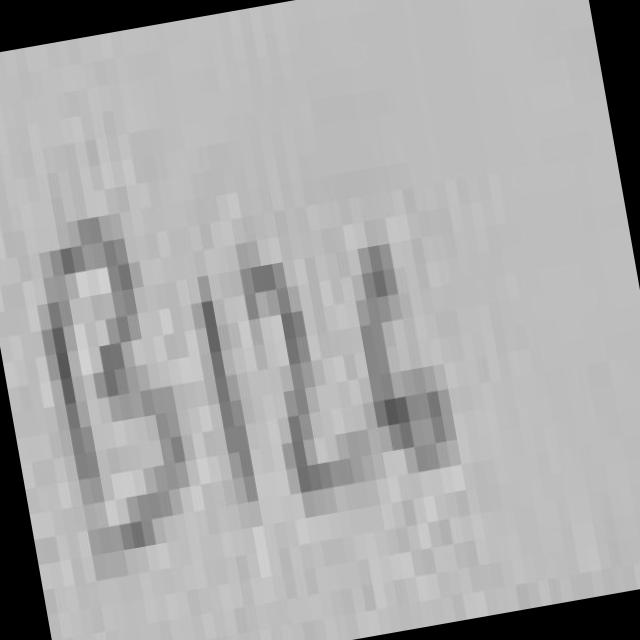1: (207, 301, 256, 489)
2: (243, 263, 376, 502)
6: (353, 246, 459, 465)
B: (41, 220, 187, 560)
